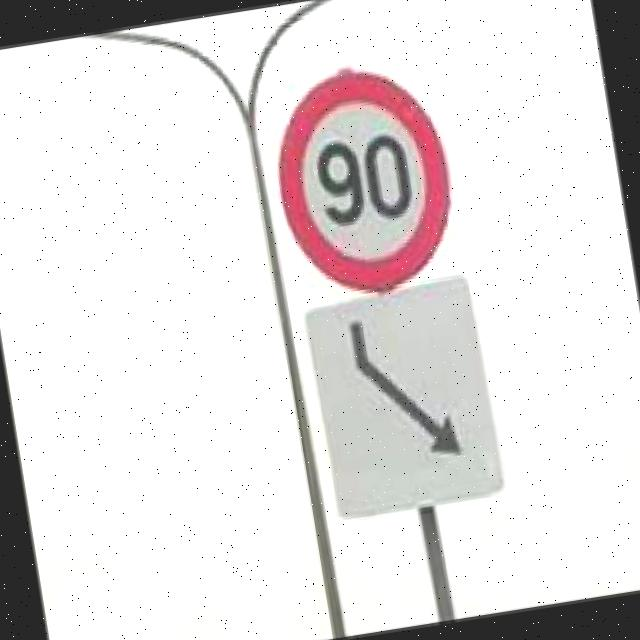Ograniczenie predkosci do 90: (266, 61, 457, 296)
